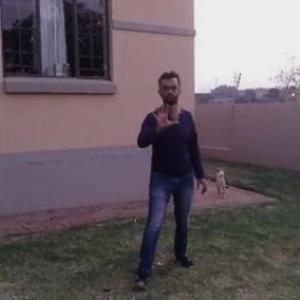follow_hand: (148, 96, 181, 133)
